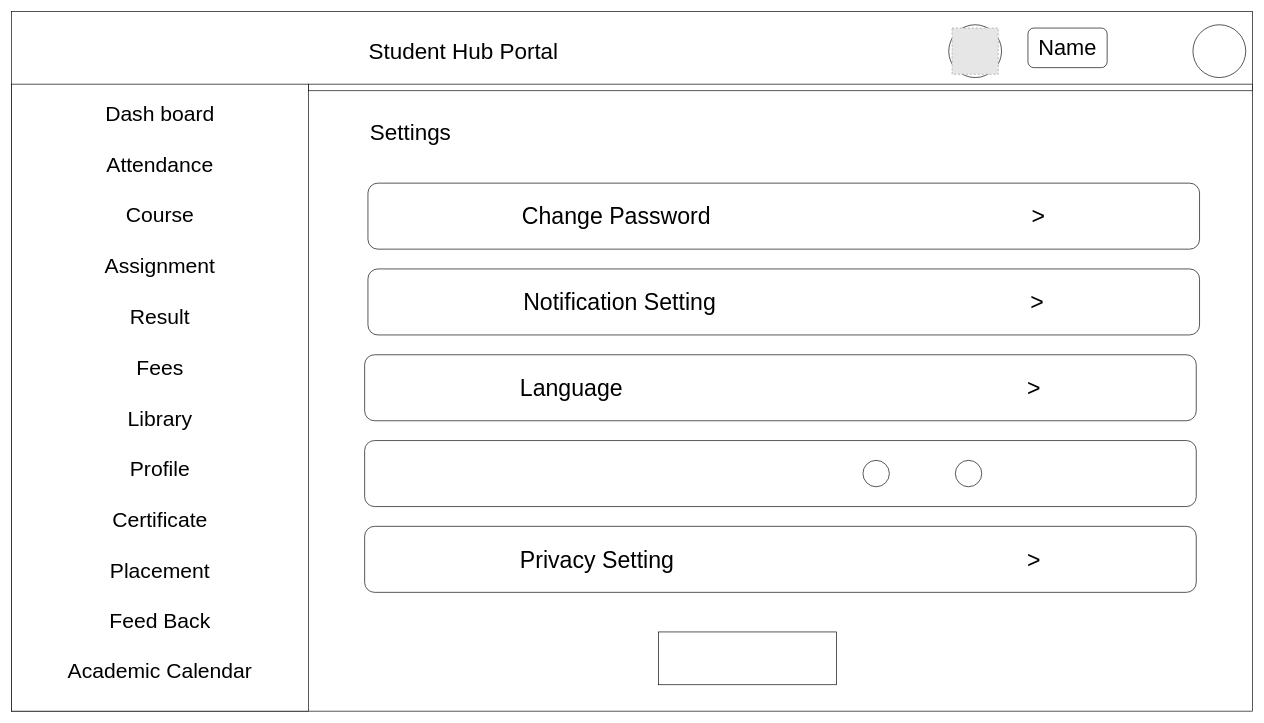
This 1264x723 diagram has some shape labels left out. Grey dashed boxes stand in for pictures. The shapes that lost their labels are listed below. From the top down, each one's box as (x1, y1, x2, y2) in pixels, then its label:
(1192, 24, 1246, 78): Setting
(364, 440, 1196, 507): Theme Light Dark
(658, 631, 837, 685): Save Changes
